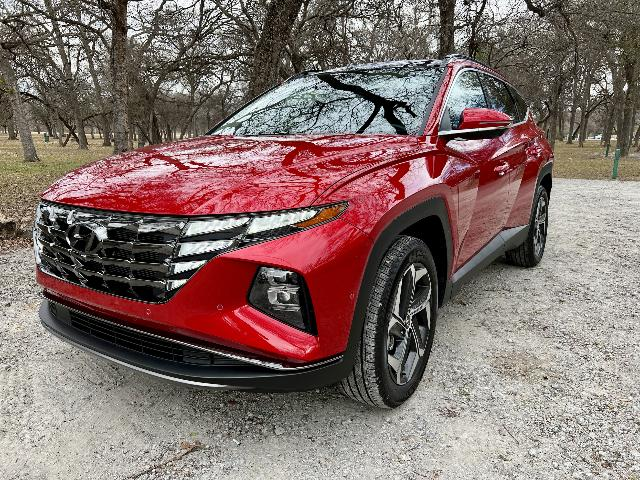hyundai: (33, 53, 554, 409)
